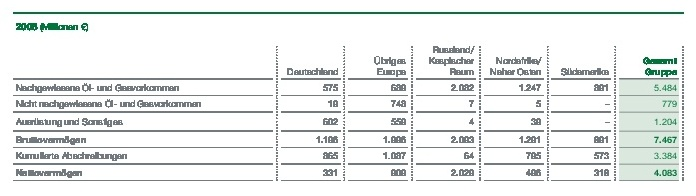table: (0, 0, 696, 196)
